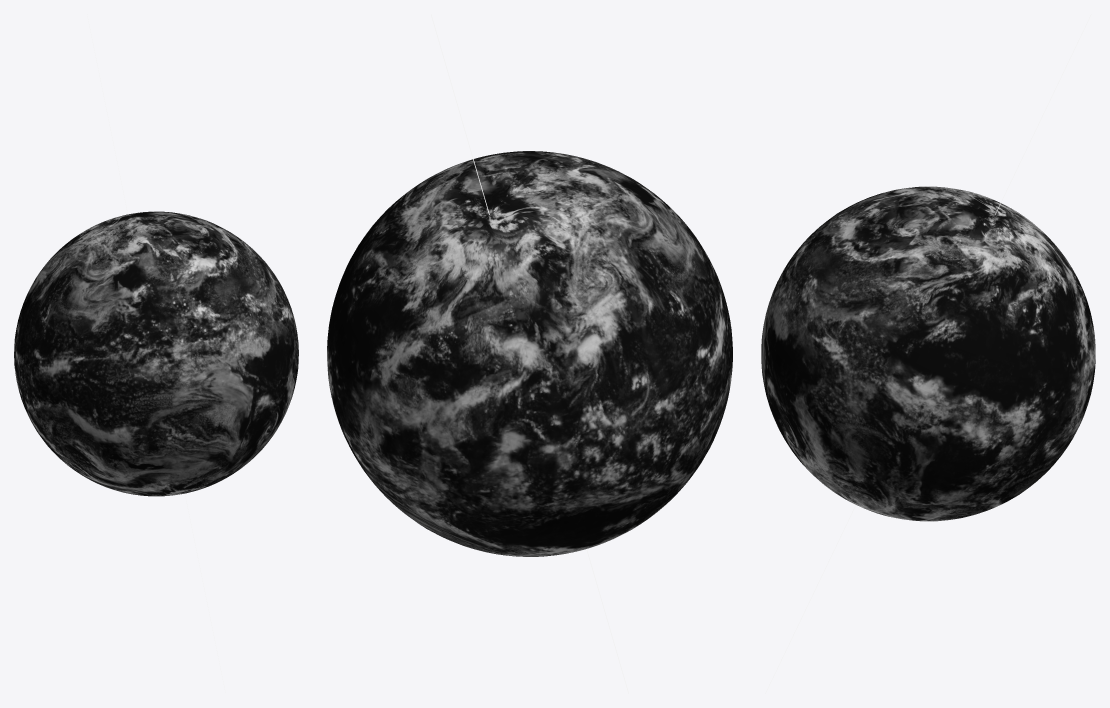
File: earth.glb
3 views of the same model, side by side, from view 1: azimuth 30°, elevation 25°; view 2: azimuth 150°, elevation 25°; view 3: azimuth 270°, elevation 25° (orthographic). The views are drawn at different scales.
Parts seen in each view (by area): view 1: clouds, Axis_Rod; view 2: clouds; view 3: clouds.
Boxes of the visible parts, x1,y1,x2,y2 form: clouds: [14, 211, 298, 496]; Axis_Rod: [87, 14, 225, 693]; clouds: [327, 151, 732, 556]; clouds: [761, 186, 1095, 521].
Bounding box in the file's own units: 2.05 × 4.59 × 2.05.
Materials: 3 (2 with a texture image).
